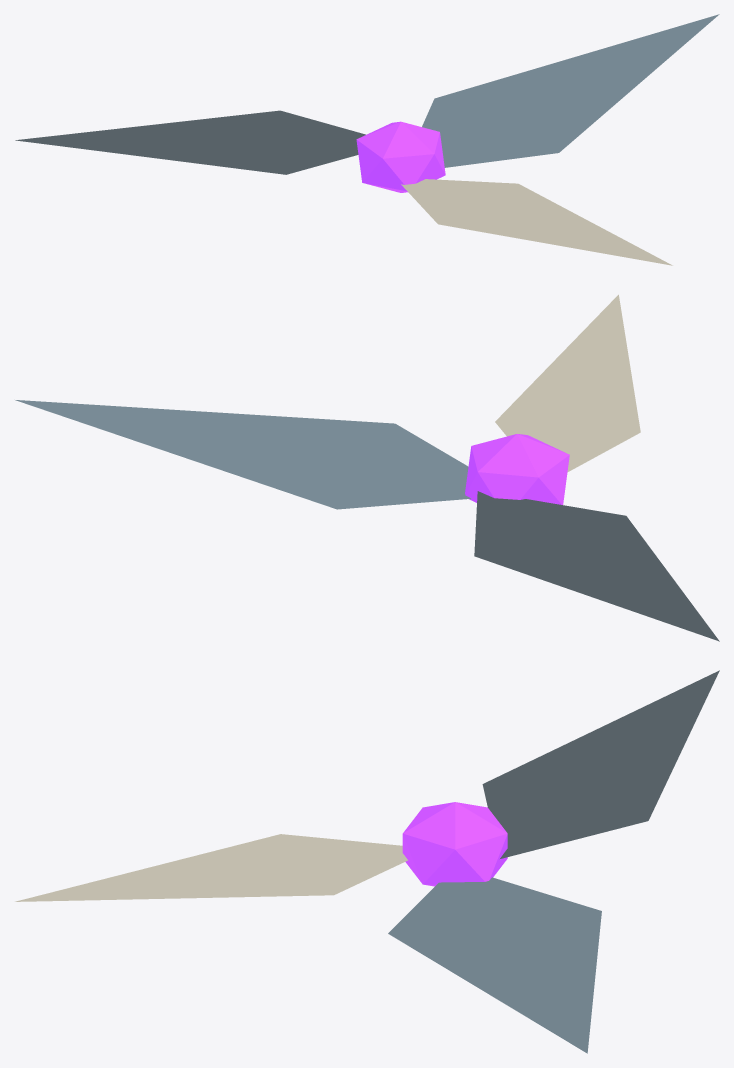
File: enemy_fen_stalker_fragment_plume.glb
3 renders of one model, top to bottom at view 1: azimuth 30°, elevation 25°; view 2: azimuth 150°, elevation 25°; view 3: azimuth 270°, elevation 25°, orthographic. The views are drawn at different scales.
Visible parts, largest first — view 1: Fragment_Plume_1, Fragment_Plume_2, Fragment_Plume_3, Fragment_Plume_Quill; view 2: Fragment_Plume_1, Fragment_Plume_2, Fragment_Plume_3, Fragment_Plume_Quill; view 3: Fragment_Plume_1, Fragment_Plume_2, Fragment_Plume_3, Fragment_Plume_Quill.
Boxes of the visible parts, left/top/right/bottom form: Fragment_Plume_1: left=422, top=14, right=719, bottom=167; Fragment_Plume_2: left=15, top=110, right=365, bottom=174; Fragment_Plume_3: left=401, top=179, right=672, bottom=265; Fragment_Plume_Quill: left=356, top=121, right=445, bottom=192; Fragment_Plume_1: left=15, top=400, right=470, bottom=509; Fragment_Plume_2: left=474, top=491, right=719, bottom=641; Fragment_Plume_3: left=495, top=294, right=640, bottom=472; Fragment_Plume_Quill: left=465, top=434, right=569, bottom=504; Fragment_Plume_1: left=388, top=877, right=601, bottom=1053; Fragment_Plume_2: left=482, top=670, right=719, bottom=858; Fragment_Plume_3: left=15, top=834, right=407, bottom=901; Fragment_Plume_Quill: left=402, top=802, right=507, bottom=886.
Bounding box in the file's own units: 0.42 × 0.044 × 0.32.
